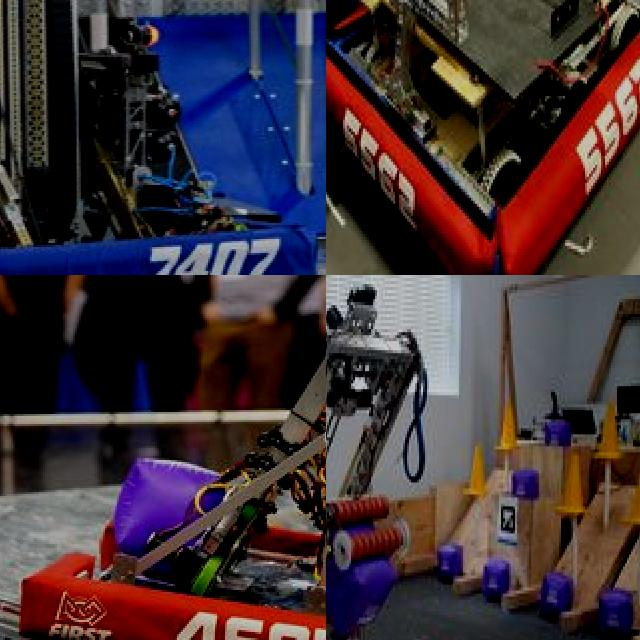FRC-Robots: (28, 275, 326, 640), (0, 0, 326, 275), (326, 0, 640, 275), (326, 283, 525, 640)
